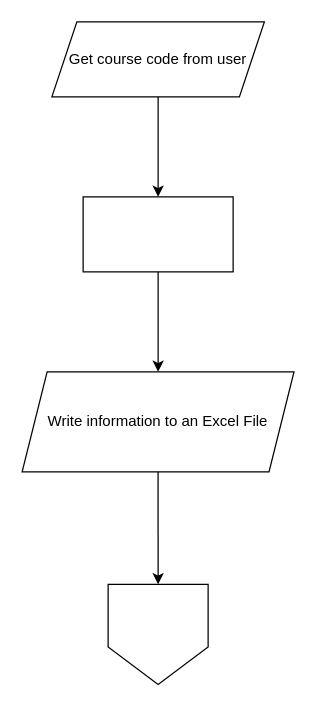
The diagram is 316 pixels wide and 706 high, and some of its shapes have lost their labels. The shapes that lost their labels are listed below. From the top down, each one's centre as x and y in pixels, then its label:
At point 157,234: "Calculate enrollment percentage for course".
At point 157,633: "Return to Main Menu".
